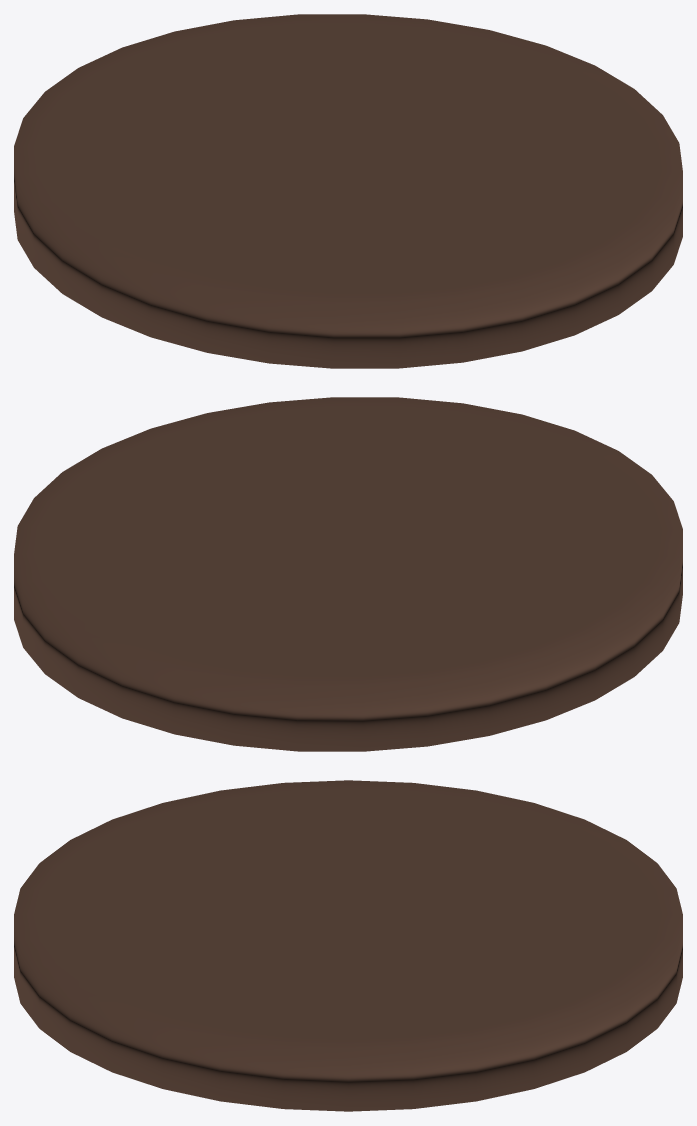
File: carne.glb
3 views of the same model, one above another, from view 1: azimuth 30°, elevation 25°; view 2: azimuth 150°, elevation 25°; view 3: azimuth 270°, elevation 25° (orthographic). The views are drawn at different scales.
Visible parts, largest first — view 1: Cylinder; view 2: Cylinder; view 3: Cylinder.
Boxes of the visible parts, bbox=[...] form: Cylinder: bbox=[14, 14, 682, 368]; Cylinder: bbox=[14, 397, 682, 751]; Cylinder: bbox=[14, 780, 682, 1111].
Bounding box in the file's own units: 1.6 × 0.1744 × 1.68.
